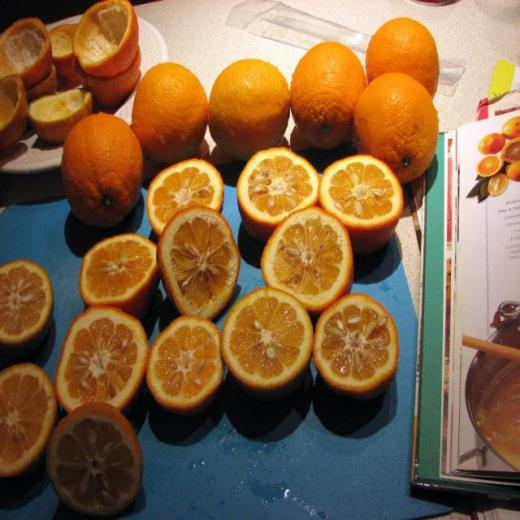Grape: (49, 398, 145, 518), (220, 277, 316, 393), (155, 204, 243, 318), (60, 105, 142, 224), (56, 304, 146, 412), (133, 63, 213, 180), (266, 205, 354, 310), (313, 291, 401, 390), (210, 58, 300, 154), (358, 72, 438, 178), (322, 149, 403, 250), (291, 41, 368, 146), (148, 308, 221, 406), (240, 146, 319, 232), (0, 364, 56, 480), (146, 154, 230, 230), (84, 232, 160, 304), (368, 19, 436, 96), (0, 258, 54, 342)
